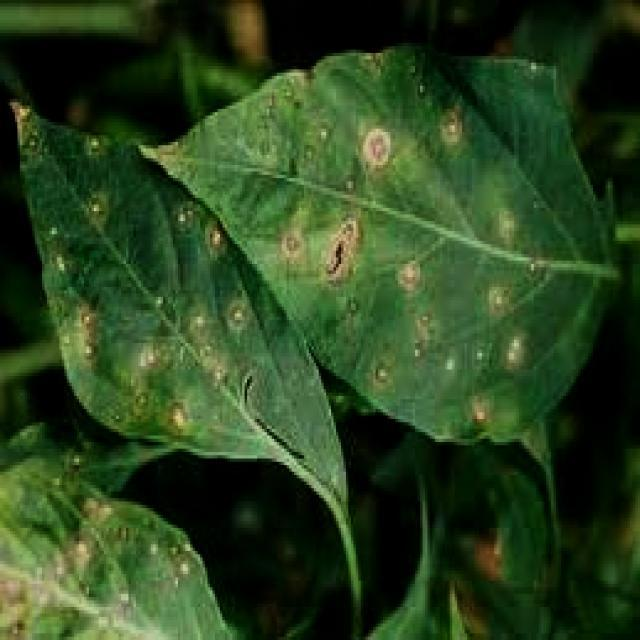Bercak Daun Serkospora: (136, 41, 640, 450), (6, 96, 348, 512), (0, 458, 261, 640)
